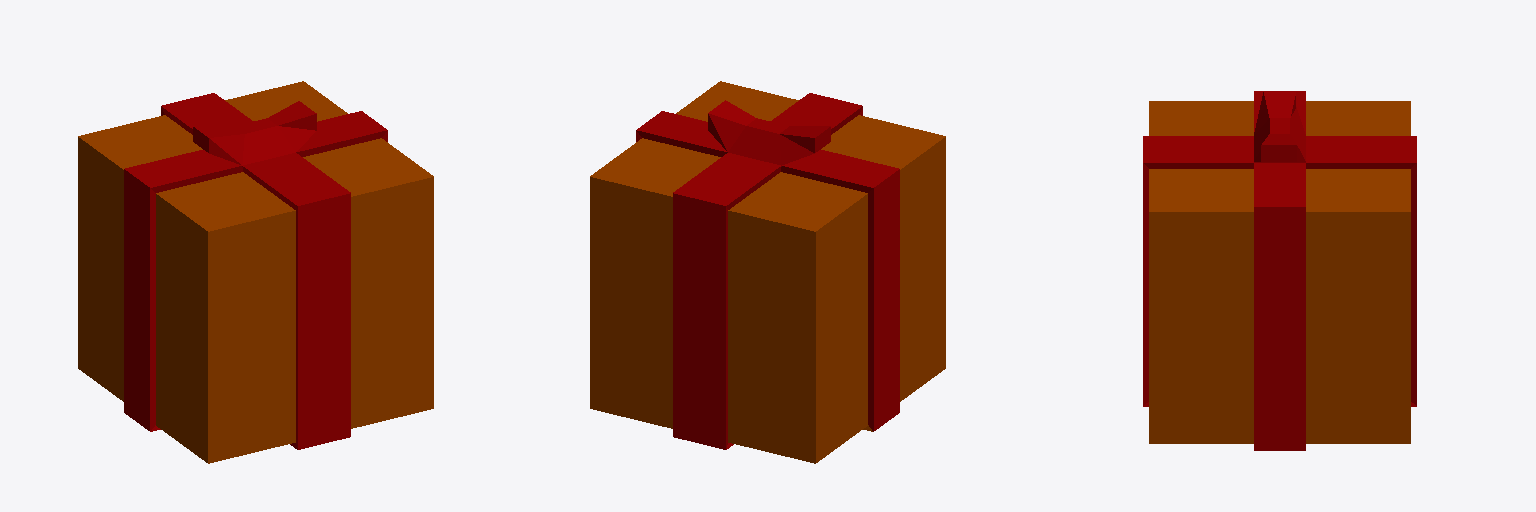
The model's file is PresentOrange.obj.
The picture shows the model from 3 angles: view 1: azimuth 30°, elevation 25°; view 2: azimuth 150°, elevation 25°; view 3: azimuth 270°, elevation 25°; orthographic projection.
Parts seen in each view (by area): view 1: Cube.001_Cube.003; view 2: Cube.001_Cube.003; view 3: Cube.001_Cube.003.
Boxes of the visible parts, box(x1,y1,x2,y2) form: Cube.001_Cube.003: box(78, 81, 433, 463); Cube.001_Cube.003: box(590, 81, 945, 463); Cube.001_Cube.003: box(1143, 91, 1416, 450).
Bounding box in the file's own units: 1.24 × 1.38 × 1.24.